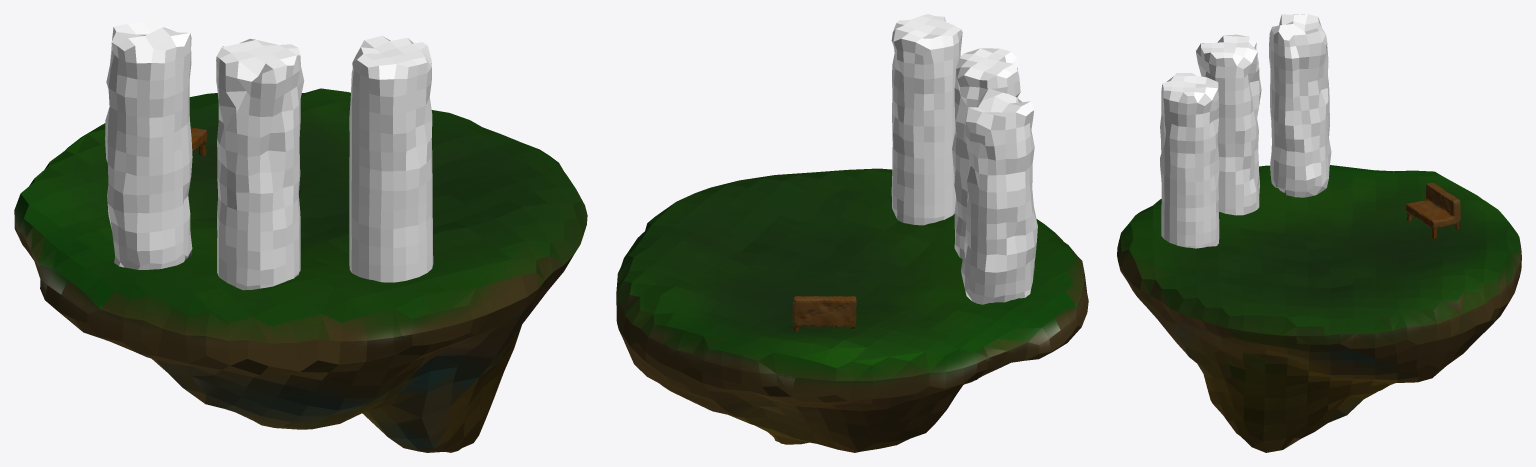
Rendered from temple.fbx.
The picture shows the model from 3 angles, left to right: view 1: azimuth 30°, elevation 25°; view 2: azimuth 150°, elevation 25°; view 3: azimuth 270°, elevation 25°; orthographic projection. The views are drawn at different scales.
Visible parts, largest first — view 1: Island, Pillars; view 2: Island, Pillars, bench; view 3: Island, Pillars, bench.
Part boxes in pixels (left/top/right/bottom): Island: left=14, top=88, right=587, bottom=452; Pillars: left=105, top=14, right=433, bottom=290; Island: left=616, top=168, right=1088, bottom=452; Pillars: left=891, top=14, right=1037, bottom=304; bench: left=792, top=296, right=856, bottom=331; Island: left=1117, top=165, right=1521, bottom=452; Pillars: left=1160, top=14, right=1331, bottom=248; bench: left=1406, top=182, right=1460, bottom=238.
Bounding box in the file's own units: 897 × 818 × 902.
3 materials, 3 textured.
